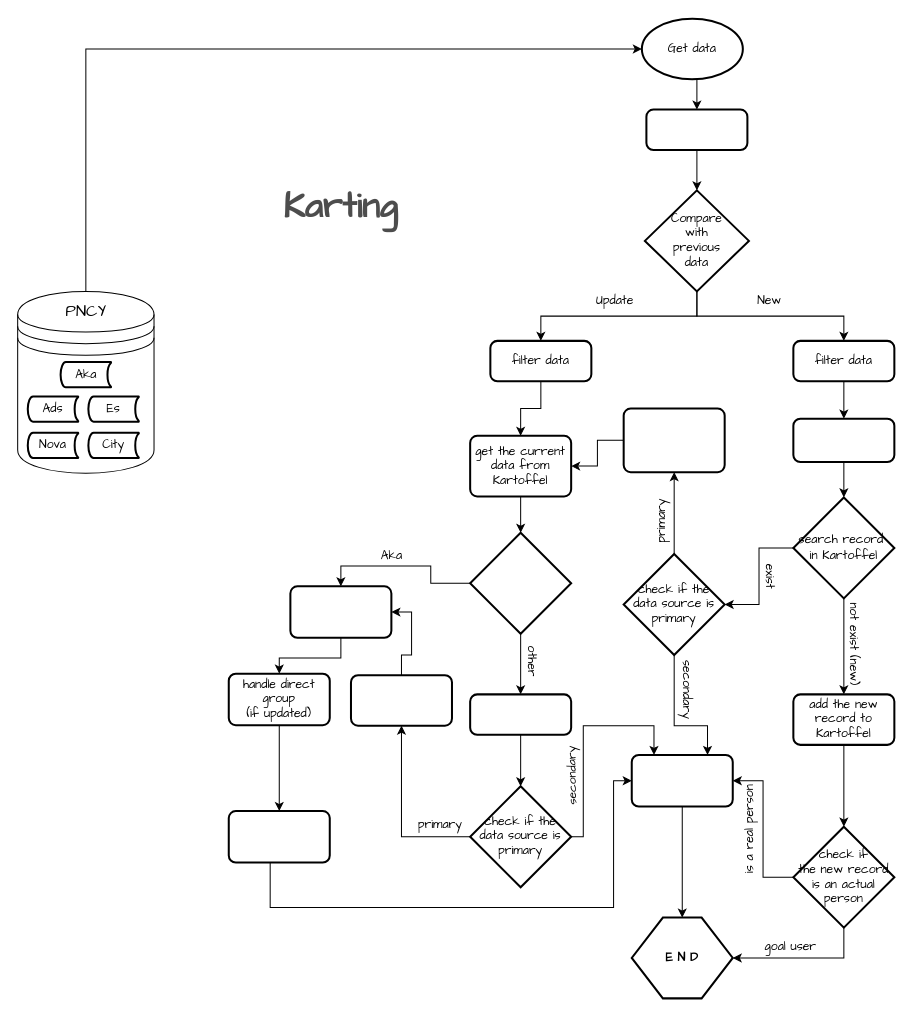
Image size: 913x1016. Some labels were removed from this diagram. Here are the shapes that lost their labels. From the top down, the box of each, then its label:
(645, 108, 748, 150): save new data
(622, 407, 725, 473): compare the new data with the data from Kartoffel
(792, 417, 895, 463): match to Kartoffel
(469, 531, 572, 634): check if the data source is Aka
(289, 585, 392, 638): match to Kartoffel (if needed)
(349, 674, 452, 726): remove fields that "rigid to Aka"
(469, 693, 572, 735): find the parallel record in Aka
(630, 753, 733, 807): add the domain user (if is new)
(227, 810, 330, 863): Update changed fields
